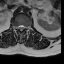CCS_normal: (20, 23, 22, 33)
LFS_normal: (24, 25, 27, 30)
LLS_normal: (22, 24, 24, 31)
RFS_normal: (15, 24, 18, 30)
RLS_normal: (17, 24, 20, 31)
